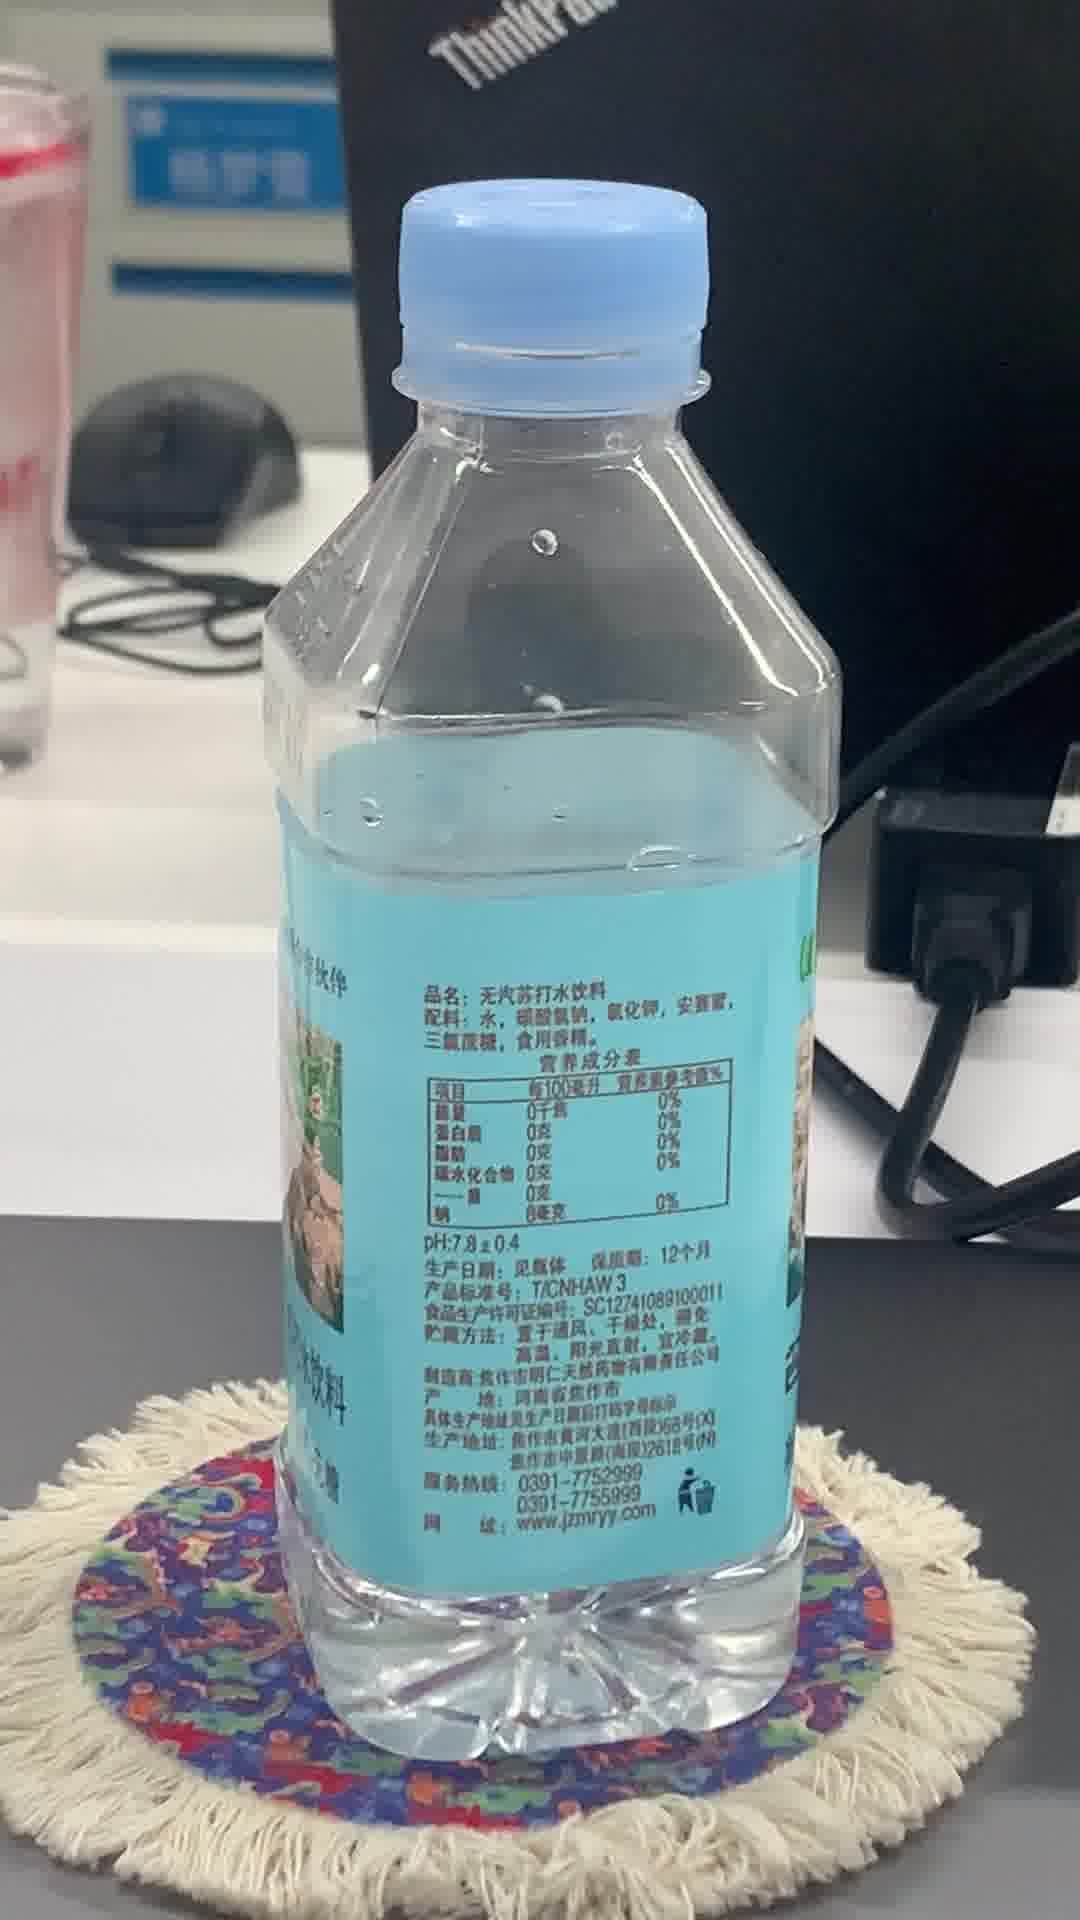水瓶: (251, 170, 818, 1735)
